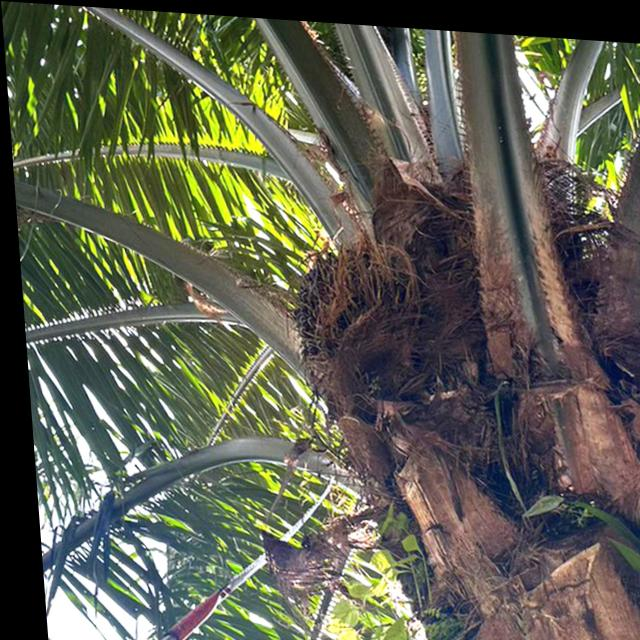unripe: (269, 219, 444, 421)
